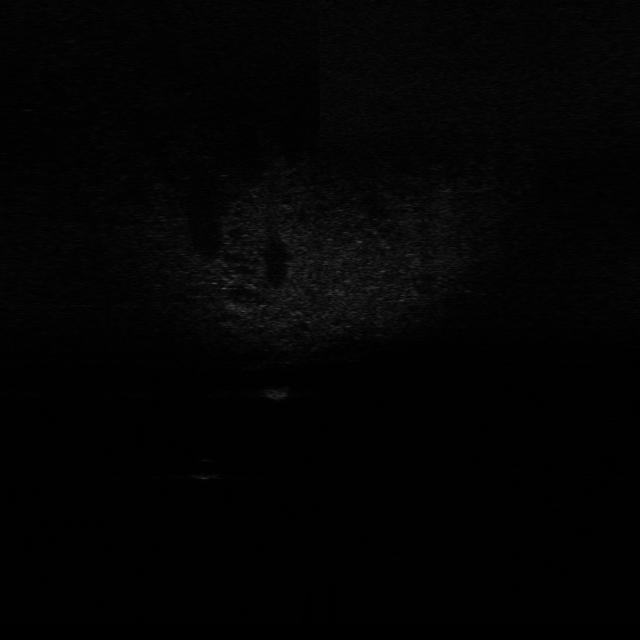ball: (182, 454, 222, 482)
cube: (262, 381, 292, 402)
